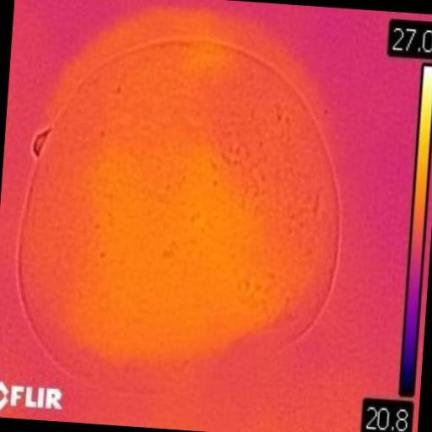mango: (21, 41, 338, 369)
